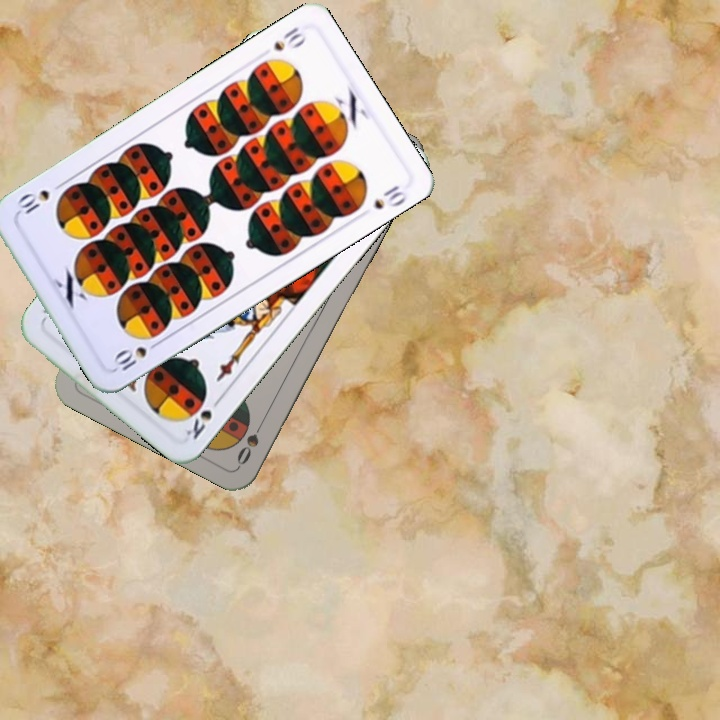S10: (109, 336, 164, 374), (269, 22, 309, 54)
SK: (181, 392, 225, 443)
SO: (232, 413, 269, 468)
